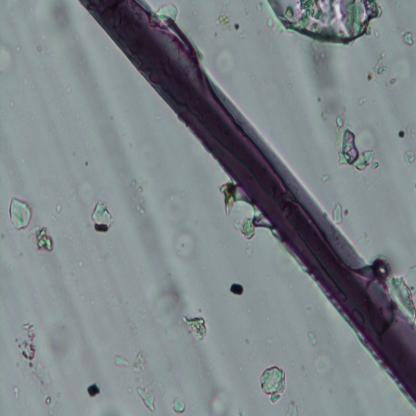Air bubble: (264, 0, 378, 42)
Background material: (304, 38, 344, 141), (334, 116, 378, 175), (163, 186, 200, 230), (40, 323, 76, 363), (207, 5, 243, 41), (304, 348, 344, 378), (152, 284, 181, 324), (17, 322, 42, 368), (123, 177, 151, 218), (46, 0, 73, 40), (370, 50, 397, 90), (260, 364, 287, 403), (211, 49, 238, 83), (7, 197, 33, 231), (183, 311, 208, 342), (92, 199, 114, 234), (202, 389, 230, 416), (216, 184, 240, 215), (178, 231, 200, 264), (134, 384, 157, 412), (134, 352, 154, 384), (34, 389, 58, 414), (34, 225, 54, 252), (390, 53, 410, 80), (75, 178, 91, 207), (80, 381, 102, 399), (0, 47, 13, 77), (241, 219, 256, 240), (112, 353, 130, 370), (332, 201, 344, 224), (171, 396, 187, 413), (303, 329, 318, 347), (230, 282, 246, 298), (403, 148, 416, 166), (402, 30, 414, 48), (321, 170, 330, 188), (287, 402, 298, 416), (53, 201, 64, 215), (12, 385, 21, 401), (75, 254, 84, 270), (116, 125, 127, 137), (15, 42, 23, 56), (398, 129, 405, 140), (83, 160, 88, 168)
Microfibre: (77, 0, 416, 406)
